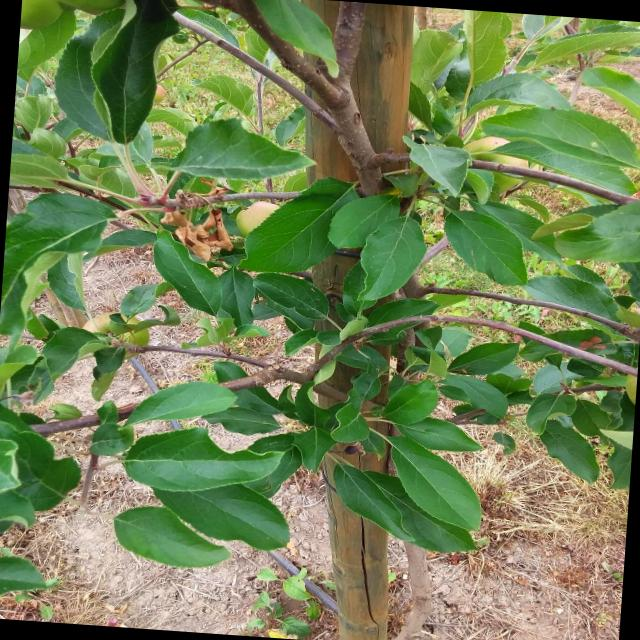-FireBlight-: (157, 187, 230, 252)
